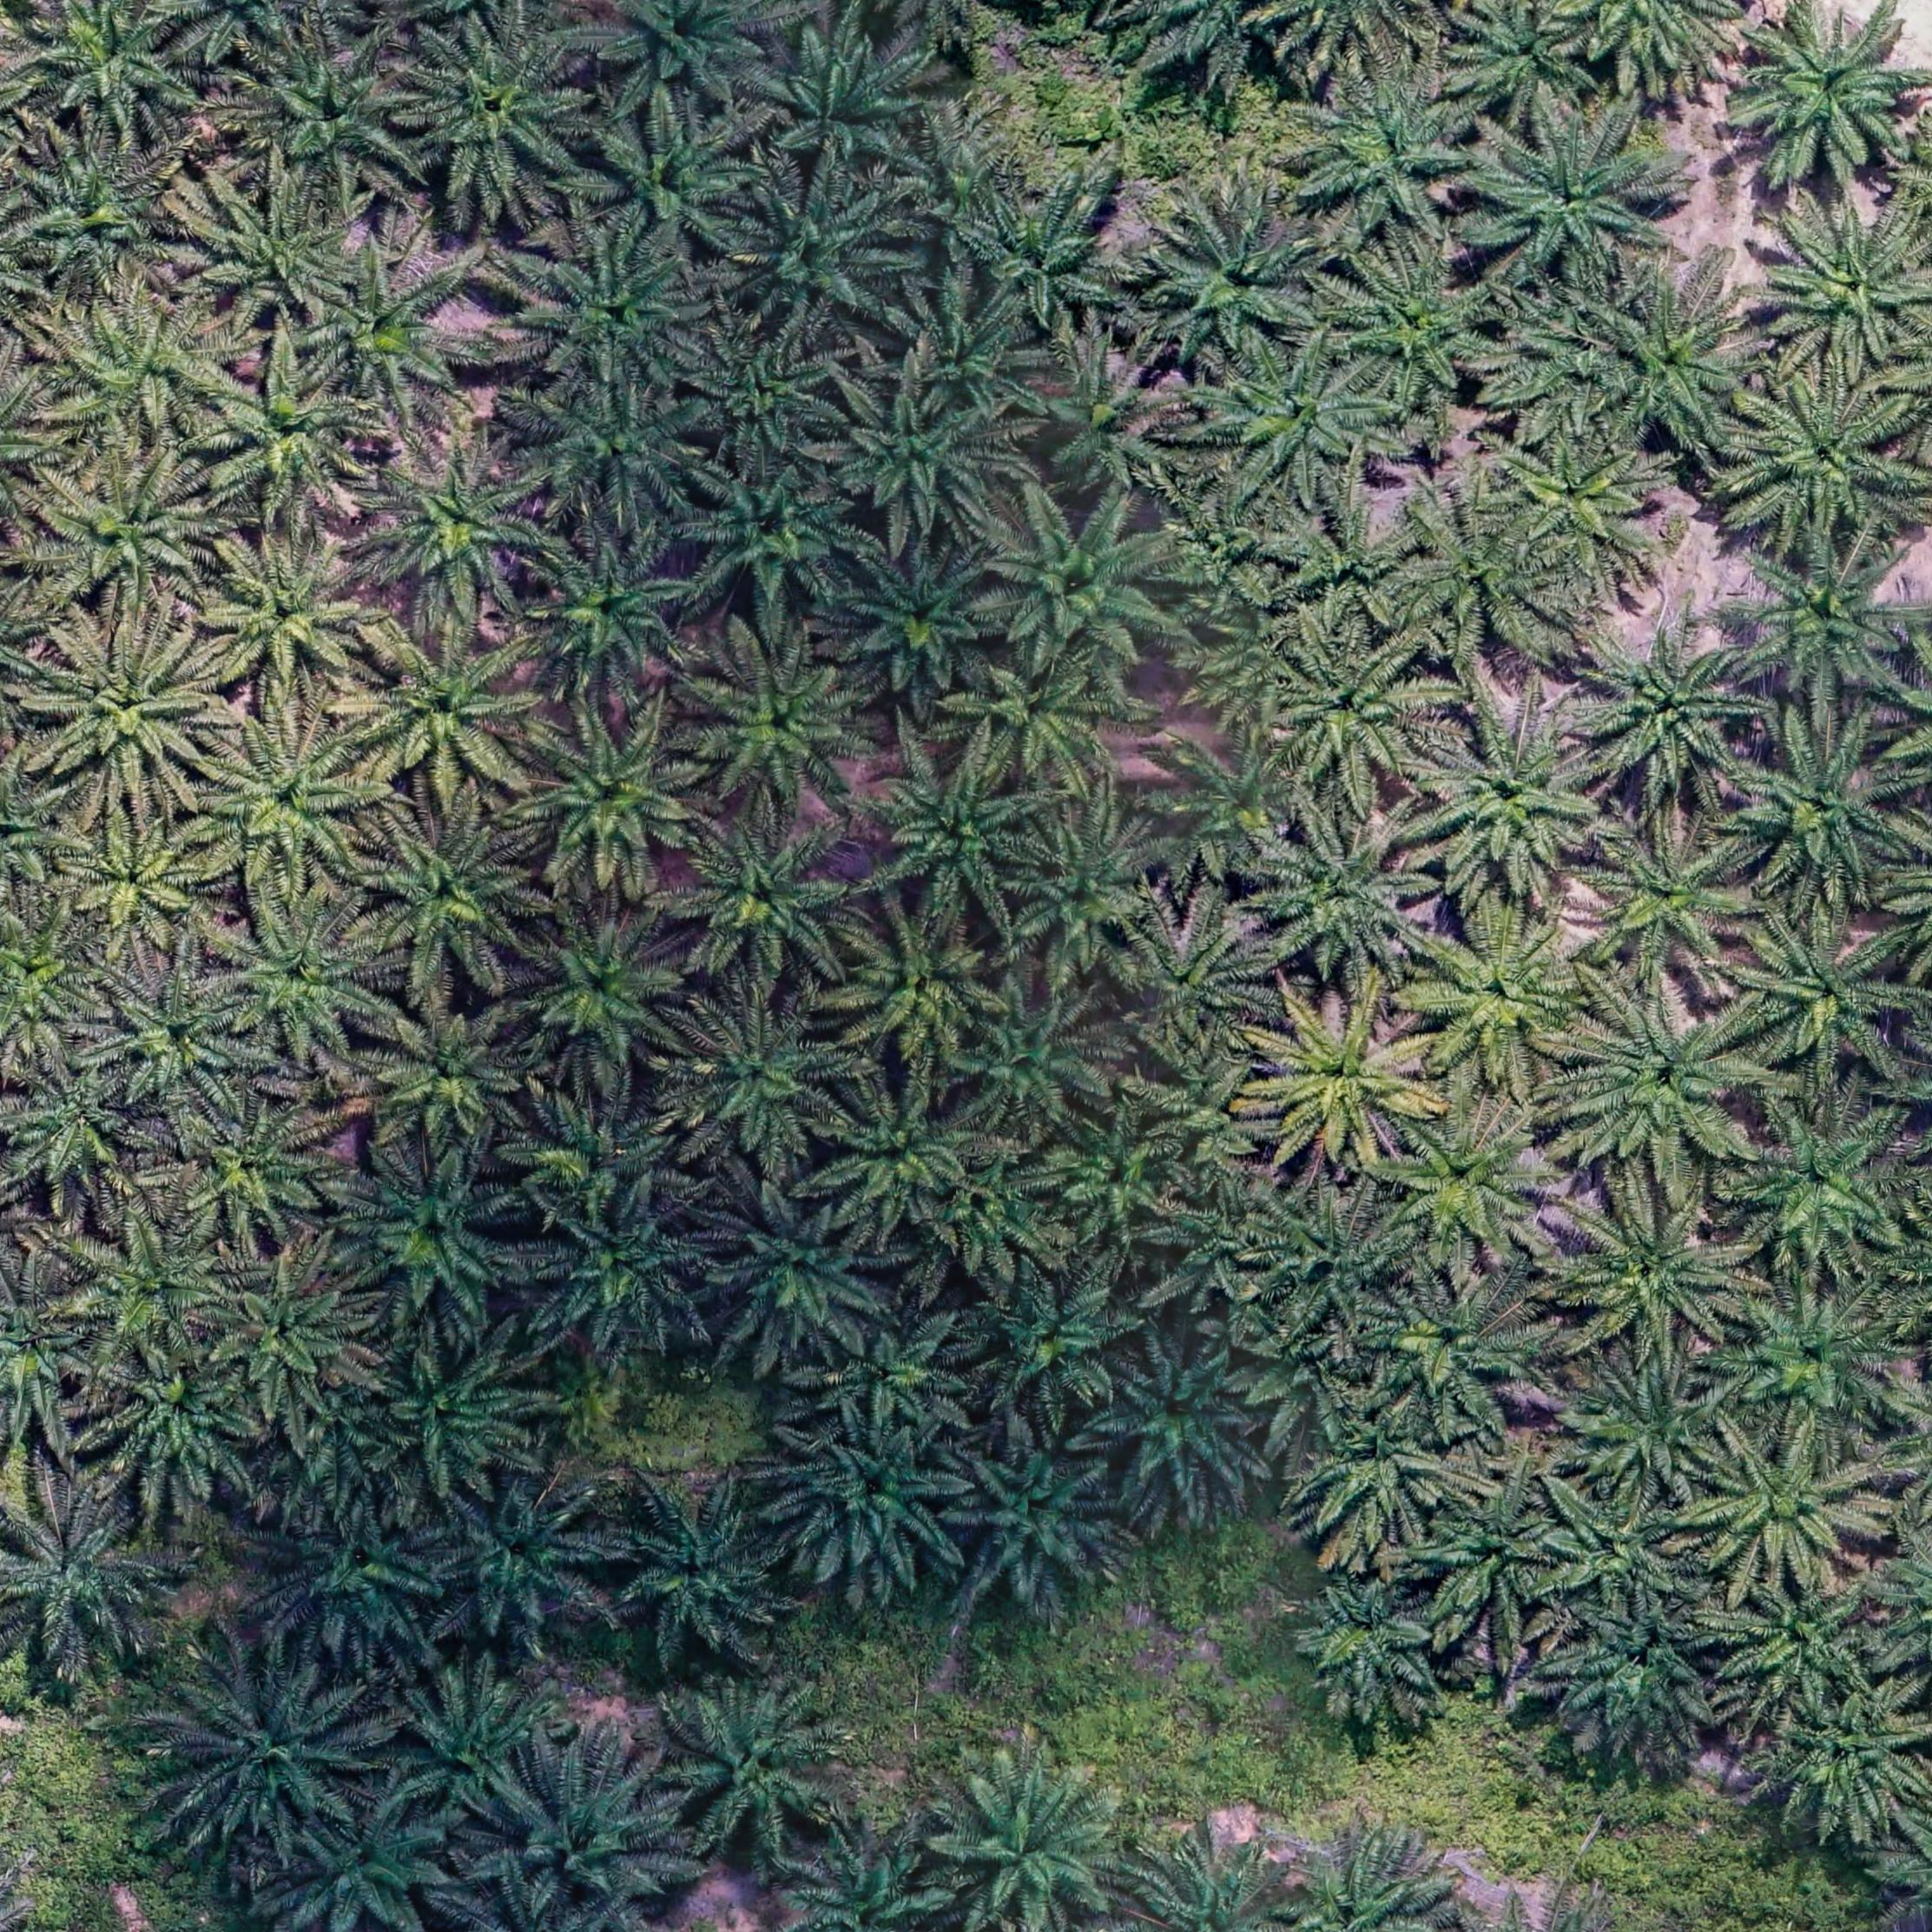palmtree: (163, 1647, 382, 1849), (977, 485, 1192, 681), (402, 21, 609, 216), (333, 1146, 540, 1336), (517, 701, 715, 897), (1568, 991, 1771, 1178), (764, 1415, 977, 1592), (225, 28, 432, 207), (1417, 706, 1610, 897), (1576, 614, 1771, 803), (1729, 4, 1923, 193), (683, 635, 879, 821), (1477, 108, 1675, 292), (513, 895, 706, 1083), (350, 617, 545, 803), (669, 807, 869, 987), (513, 226, 717, 403), (862, 741, 1053, 929), (1293, 64, 1488, 248), (359, 437, 556, 619), (725, 166, 922, 347), (525, 1187, 725, 1364), (35, 621, 228, 803), (658, 1683, 847, 1867), (295, 239, 487, 421), (248, 1499, 451, 1668), (1730, 720, 1918, 904), (1555, 1185, 1748, 1364), (706, 1184, 899, 1362), (669, 989, 858, 1169), (35, 448, 228, 625), (426, 1479, 621, 1654), (524, 525, 711, 706), (202, 529, 391, 708), (1729, 373, 1921, 548), (37, 290, 242, 455), (748, 21, 945, 193), (1412, 906, 1601, 1083), (1729, 538, 1920, 713), (200, 718, 391, 893), (936, 1760, 1131, 1932), (952, 1428, 1134, 1610), (357, 803, 543, 982), (1201, 338, 1396, 508), (610, 1486, 796, 1663), (1150, 200, 1338, 375), (679, 453, 869, 626), (1691, 1426, 1890, 1591), (1001, 798, 1177, 984), (1729, 1100, 1916, 1274), (487, 1755, 681, 1921), (819, 375, 1016, 540), (1258, 993, 1442, 1168), (1382, 1100, 1571, 1270), (1592, 274, 1773, 451), (359, 1332, 545, 1504), (957, 1263, 1146, 1431), (1093, 1332, 1270, 1511), (16, 129, 198, 303), (200, 350, 382, 524), (1258, 809, 1442, 980), (1369, 1272, 1557, 1440), (380, 1667, 563, 1838), (1732, 906, 1916, 1076), (522, 372, 720, 529), (218, 893, 398, 1063), (1725, 1283, 1913, 1445), (1757, 202, 1932, 375), (1585, 814, 1766, 982), (1392, 504, 1580, 665), (835, 541, 1014, 709), (189, 173, 370, 338), (816, 1074, 989, 1242), (363, 994, 541, 1157), (837, 902, 1008, 1070), (1016, 343, 1191, 508), (1752, 1681, 1932, 1840), (1334, 246, 1507, 410), (1493, 435, 1672, 594), (19, 0, 214, 145), (957, 978, 1131, 1141), (582, 113, 761, 271), (96, 1343, 269, 1504), (1553, 1591, 1732, 1746), (1281, 632, 1447, 798), (211, 1256, 380, 1419), (573, 0, 782, 131), (957, 644, 1131, 801), (64, 1210, 239, 1366), (971, 188, 1139, 349), (172, 1093, 347, 1247), (7, 1499, 170, 1663), (97, 964, 267, 1122), (678, 324, 853, 474), (1559, 1352, 1736, 1499), (1716, 1573, 1891, 1720), (278, 1794, 462, 1932), (524, 1079, 701, 1221), (1297, 1396, 1460, 1546), (1155, 732, 1316, 883), (60, 809, 225, 955), (890, 276, 1051, 425), (1118, 904, 1281, 1051), (7, 1053, 163, 1201), (1292, 1568, 1451, 1713), (890, 122, 1033, 283), (812, 1300, 975, 1442), (1254, 1189, 1415, 1330), (1536, 1481, 1702, 1617), (1131, 1031, 1279, 1182), (1417, 1484, 1566, 1631), (1039, 1106, 1189, 1249), (1180, 593, 1325, 734), (936, 1138, 1081, 1277), (1277, 497, 1430, 630), (1146, 1178, 1283, 1323), (0, 1267, 103, 1456), (0, 899, 111, 1067), (1269, 1836, 1458, 1932), (1449, 0, 1598, 120), (1231, 1311, 1362, 1445), (1154, 481, 1290, 610), (777, 1836, 961, 1932), (1552, 0, 1746, 90), (1127, 1828, 1265, 1932), (1143, 0, 1292, 80)
